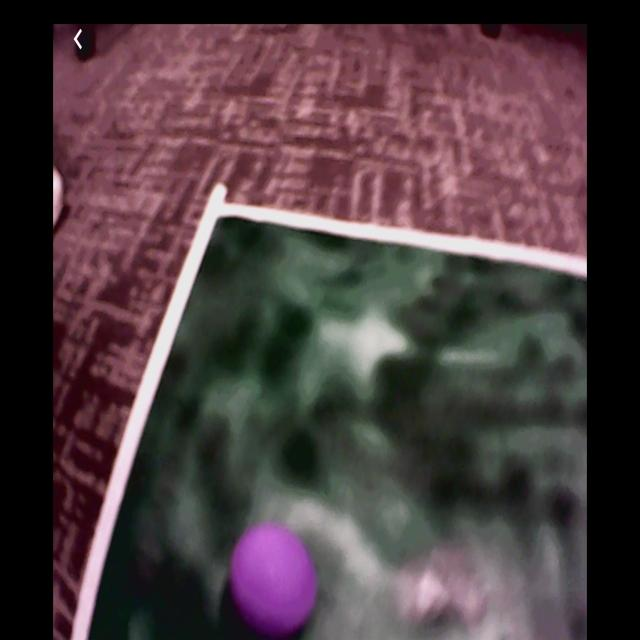ball: (232, 527, 316, 632)
